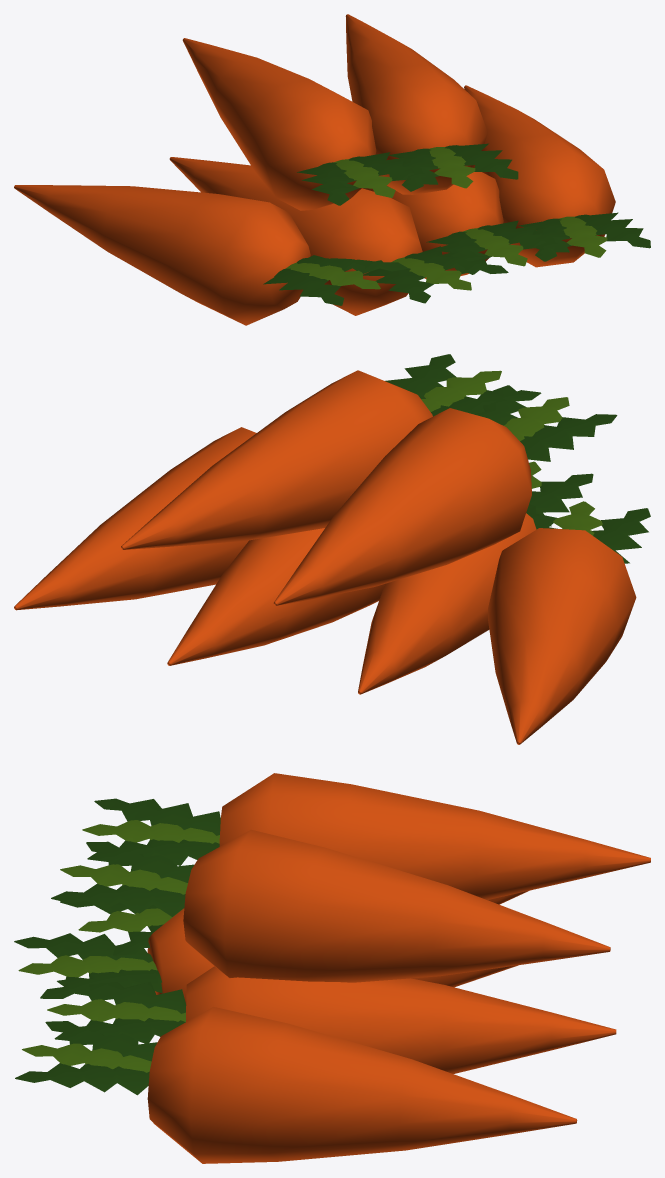
File: pile-vegetable-6.obj
3 renders of one model, top to bottom at view 1: azimuth 30°, elevation 25°; view 2: azimuth 150°, elevation 25°; view 3: azimuth 270°, elevation 25°, orthographic. The views are drawn at different scales.
Parts seen in each view (by area): view 1: pile-vegetable-6; view 2: pile-vegetable-6; view 3: pile-vegetable-6.
Boxes of the visible parts, box(x1,y1,x2,y2) form: pile-vegetable-6: box(14, 14, 650, 325); pile-vegetable-6: box(14, 354, 650, 744); pile-vegetable-6: box(14, 773, 650, 1163).
Bounding box in the file's own units: 0.6447 × 0.272 × 0.6406.
1 material, 1 textured.
